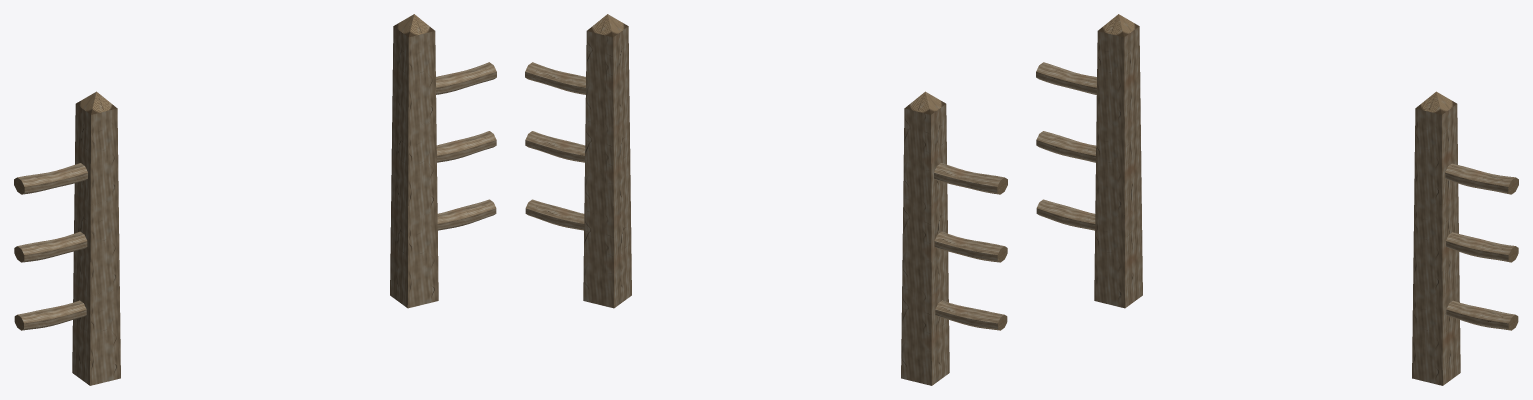
The model's file is fence_split_rail_gate_frame.fbx.
3 views of the same model, side by side, from view 1: azimuth 30°, elevation 25°; view 2: azimuth 150°, elevation 25°; view 3: azimuth 330°, elevation 25° (orthographic).
Visible parts, largest first — view 1: FenceSplitRailGateFrameMesh.001; view 2: FenceSplitRailGateFrameMesh.001; view 3: FenceSplitRailGateFrameMesh.001.
Part boxes in pixels (x1=…): FenceSplitRailGateFrameMesh.001: x1=14, y1=14, x2=496, y2=385; FenceSplitRailGateFrameMesh.001: x1=525, y1=14, x2=1007, y2=385; FenceSplitRailGateFrameMesh.001: x1=1036, y1=14, x2=1518, y2=385.
Size of the model in its own units: 6.98 by 0.4572 by 4.02.
